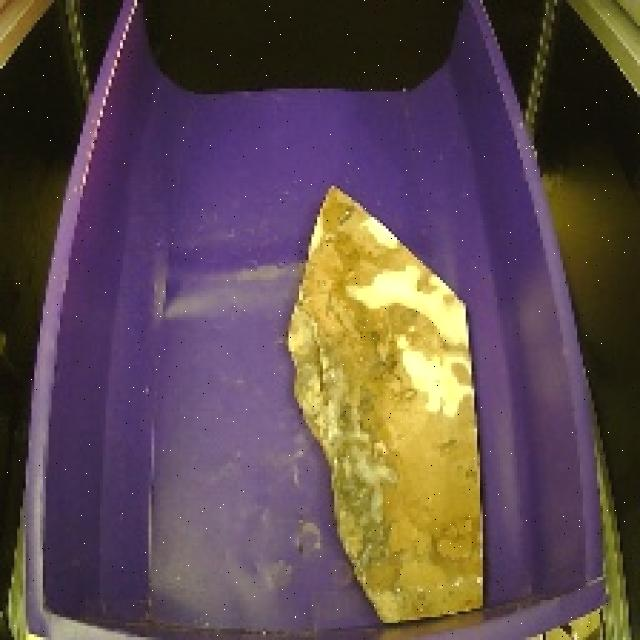china: (281, 175, 494, 632)
